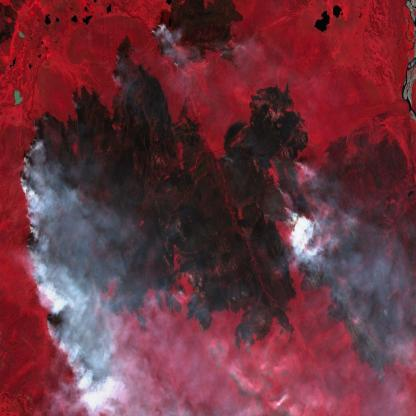fire: (15, 130, 129, 406), (274, 145, 324, 274), (144, 7, 172, 52)
